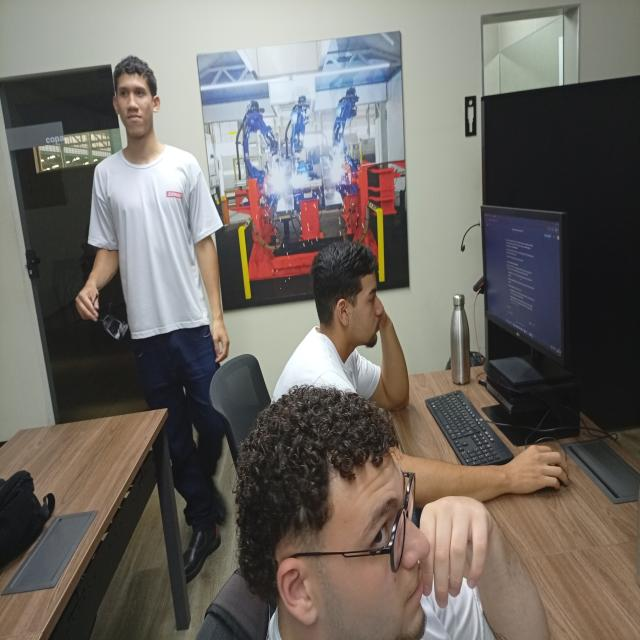sem_oculos: (238, 469, 462, 565), (105, 75, 164, 107), (327, 280, 388, 310)
